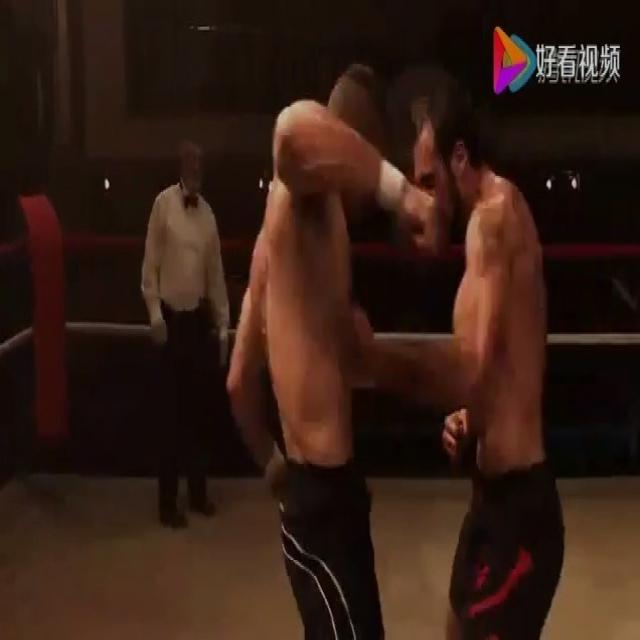fight: (206, 55, 577, 638)
non-fight: (426, 121, 572, 638), (135, 137, 241, 524)
